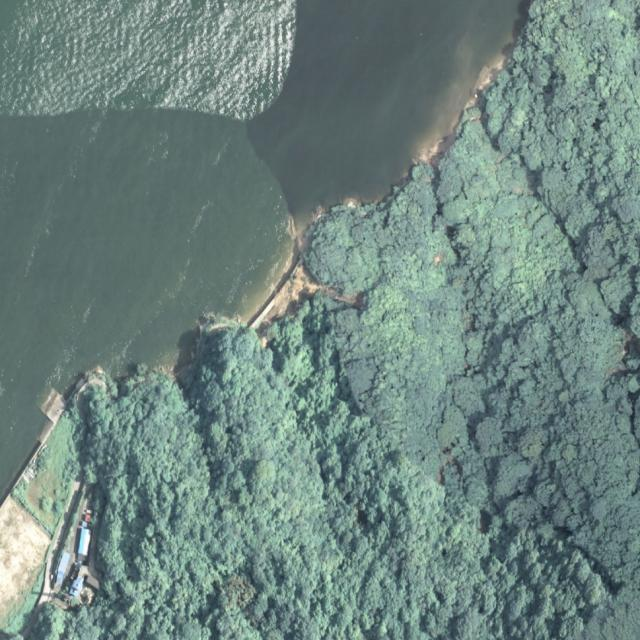landslide: (251, 258, 363, 338)
